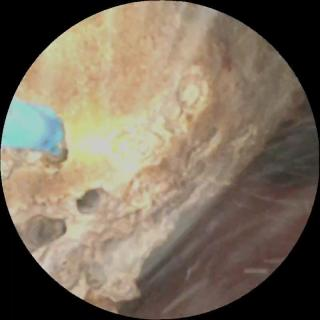fiber: (6, 100, 61, 153)
stone: (5, 6, 305, 311)
